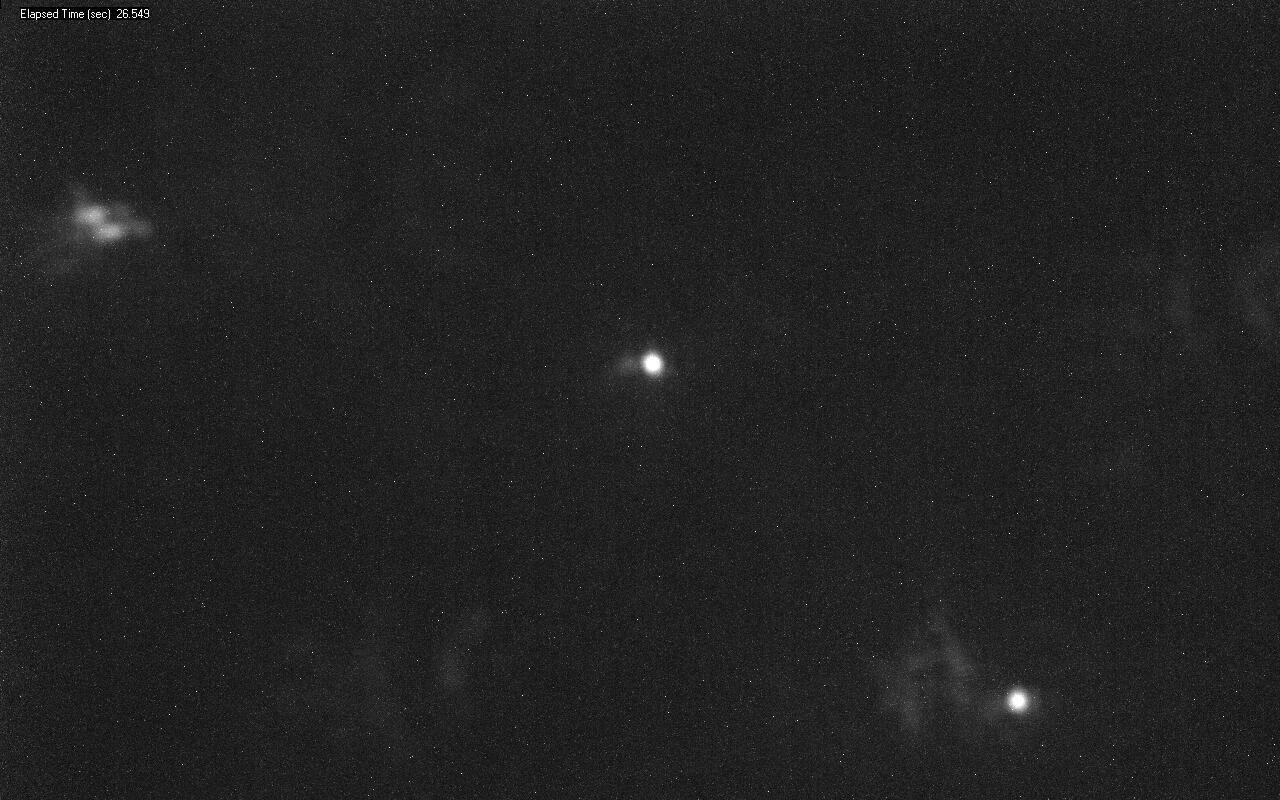Bead: (643, 351, 665, 376), (1008, 690, 1028, 712)
